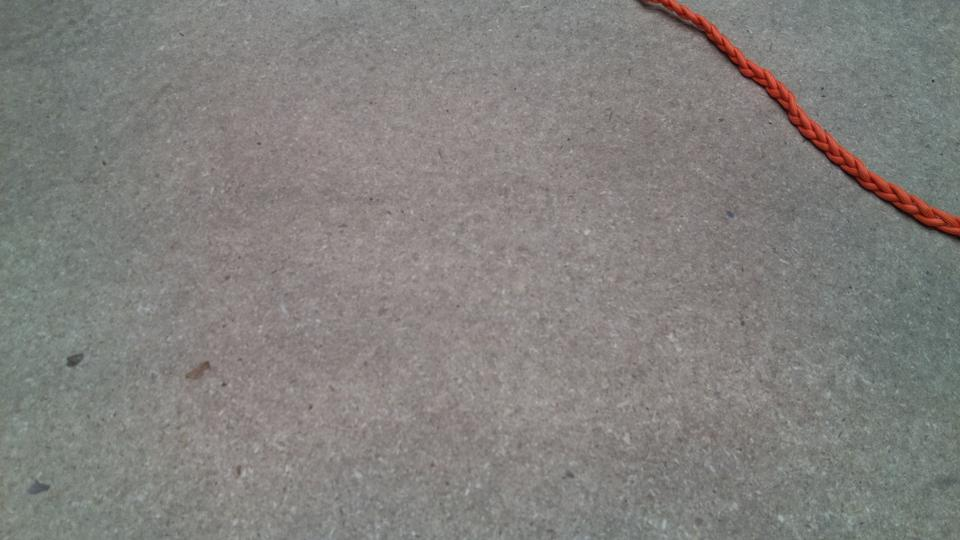rope: (670, 1, 960, 228)
